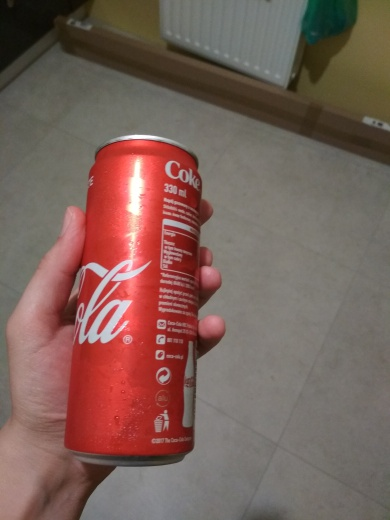cola: (66, 129, 209, 471)
